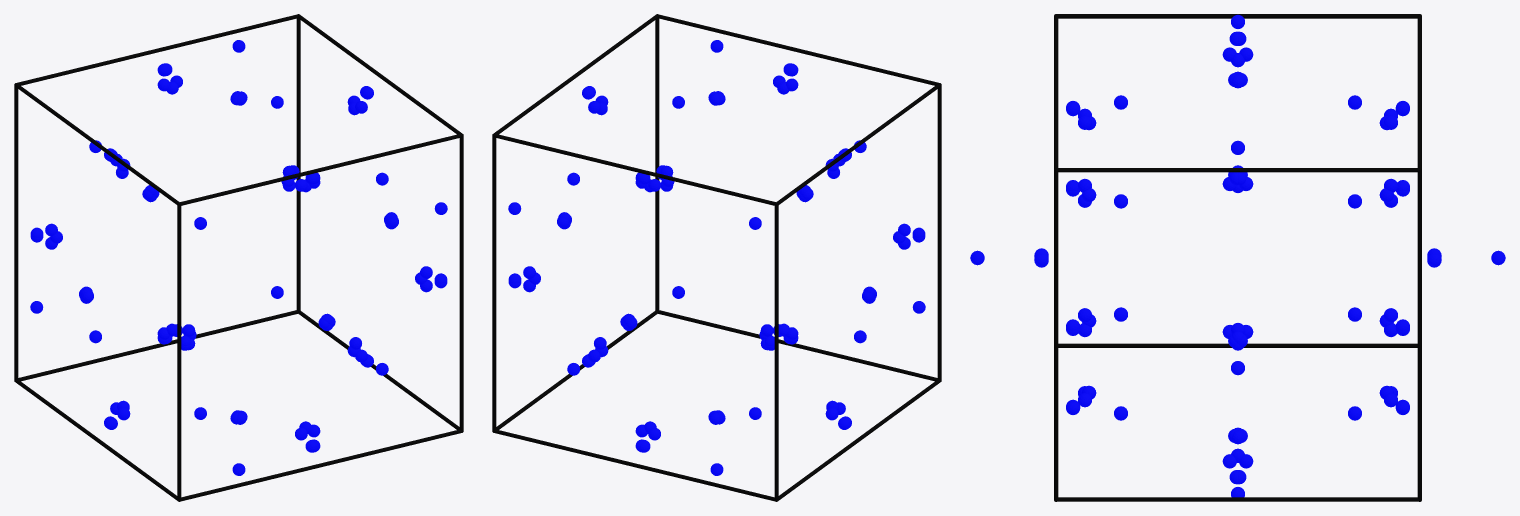
File: TryLiquid.glb
3 views of the same model, side by side, from view 1: azimuth 30°, elevation 25°; view 2: azimuth 150°, elevation 25°; view 3: azimuth 270°, elevation 25° (orthographic). The views are drawn at different scales.
Bounding box in the file's own units: 7.36 × 7.36 × 7.36.
